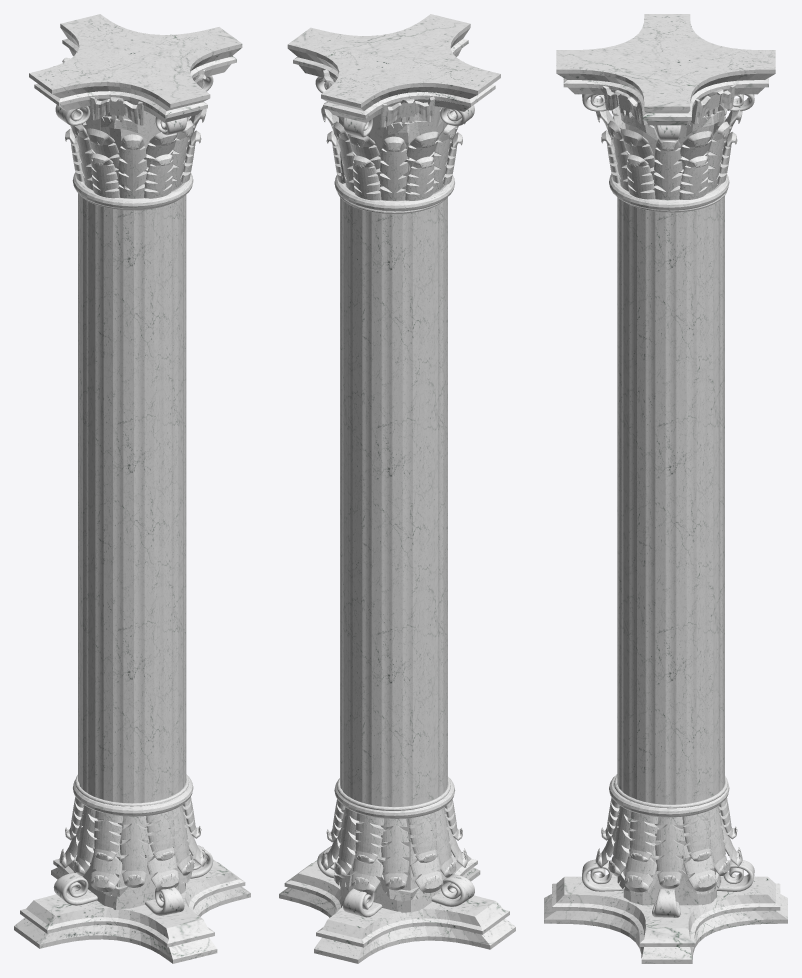
Rendered from roman_column.glb.
3 renders of one model, left to right at view 1: azimuth 30°, elevation 25°; view 2: azimuth 150°, elevation 25°; view 3: azimuth 270°, elevation 25°, orthographic.
Visible parts, largest first — view 1: Object_13, Object_3, Object_5, Object_12, Object_9, Object_11, Object_4, Object_6, Object_8, Object_14, Object_10, Object_15 (+1 smaller); view 2: Object_13, Object_3, Object_5, Object_12, Object_9, Object_11, Object_4, Object_6, Object_8, Object_14, Object_10, Object_7 (+1 smaller); view 3: Object_13, Object_3, Object_5, Object_12, Object_9, Object_11, Object_4, Object_6, Object_8, Object_14, Object_10, Object_7 (+1 smaller).
Part boxes in pixels (x1,y1,x2,y2): Object_13: (62, 52, 206, 803); Object_3: (29, 14, 242, 122); Object_5: (14, 859, 250, 963); Object_12: (72, 97, 193, 909); Object_9: (72, 804, 194, 887); Object_11: (72, 116, 193, 198); Object_4: (65, 797, 201, 861); Object_6: (65, 128, 201, 198); Object_8: (59, 811, 206, 891); Object_14: (53, 845, 213, 915); Object_10: (70, 109, 206, 188); Object_15: (55, 75, 213, 135); Object_13: (322, 69, 447, 806); Object_3: (287, 14, 500, 122); Object_5: (279, 852, 515, 963); Object_12: (334, 61, 464, 912); Object_9: (334, 807, 456, 890); Object_11: (333, 109, 455, 200); Object_4: (326, 799, 462, 863); Object_6: (326, 130, 462, 200); Object_8: (321, 813, 468, 894); Object_14: (317, 846, 474, 917); Object_10: (321, 102, 465, 190); Object_7: (334, 107, 453, 901); Object_13: (602, 85, 735, 804); Object_3: (556, 14, 775, 125); Object_5: (544, 871, 787, 963); Object_12: (609, 174, 729, 905); Object_9: (608, 805, 730, 888); Object_11: (607, 104, 729, 199); Object_4: (601, 797, 737, 862); Object_6: (601, 130, 737, 199); Object_8: (595, 811, 742, 892); Object_14: (582, 859, 754, 917); Object_10: (596, 109, 742, 189); Object_7: (617, 106, 724, 894).
Bounding box in the file's own units: 2.22 × 8.59 × 2.22.
Materials: 1 (1 with a texture image).
